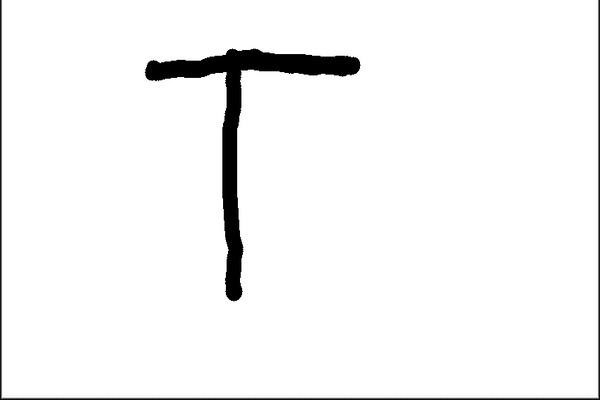T: (141, 46, 363, 301)
